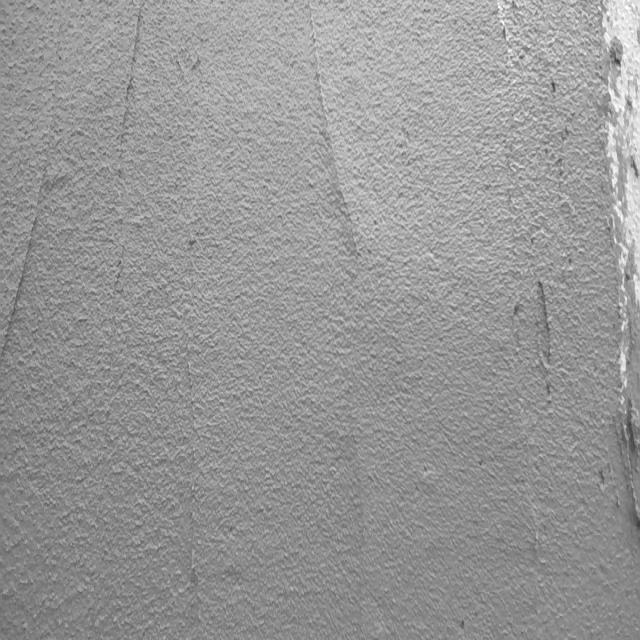trowels marks: (312, 2, 364, 288), (8, 48, 52, 369), (111, 0, 148, 338)
